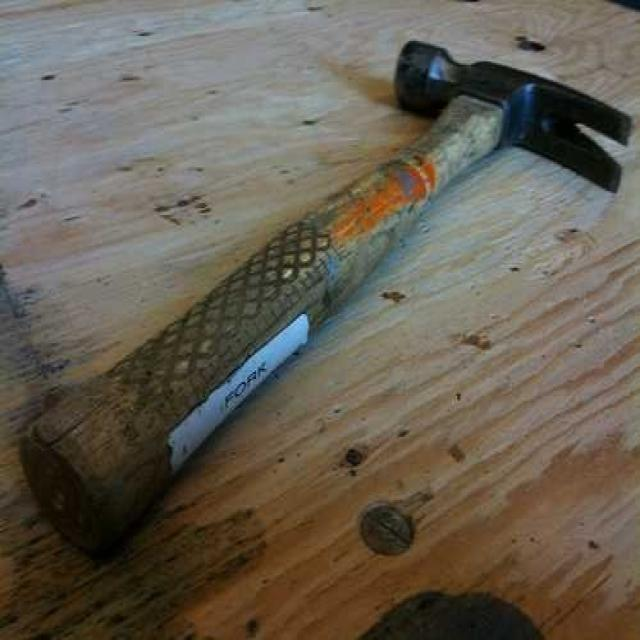hammer: (21, 40, 632, 562)
